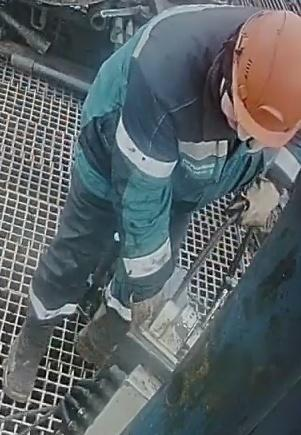gloves: (224, 174, 281, 228), (126, 279, 167, 328)
helmet: (228, 9, 300, 148)
vest: (70, 2, 263, 200)
